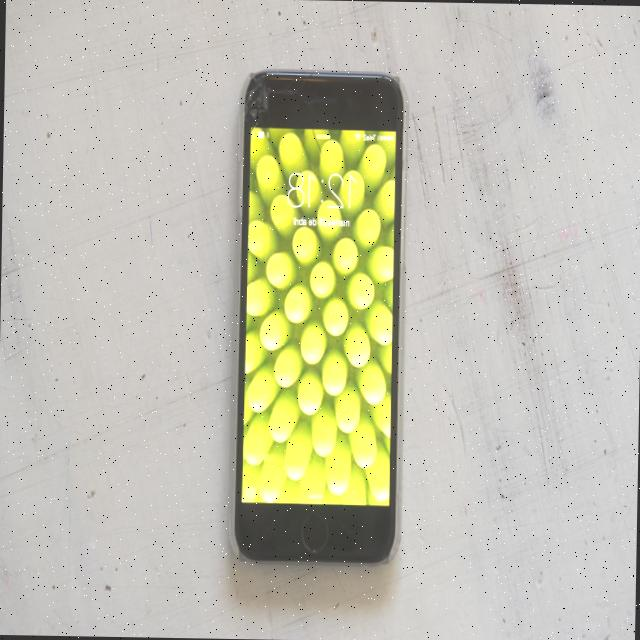Phone: (234, 66, 408, 569)
